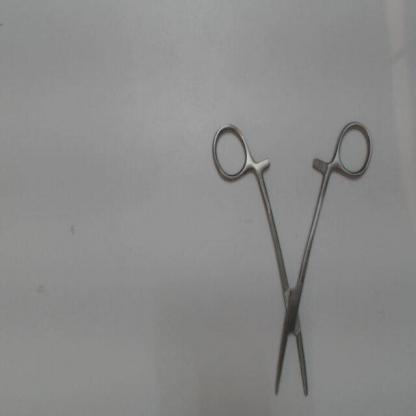Mayo Needle Holder: (205, 116, 376, 404)
